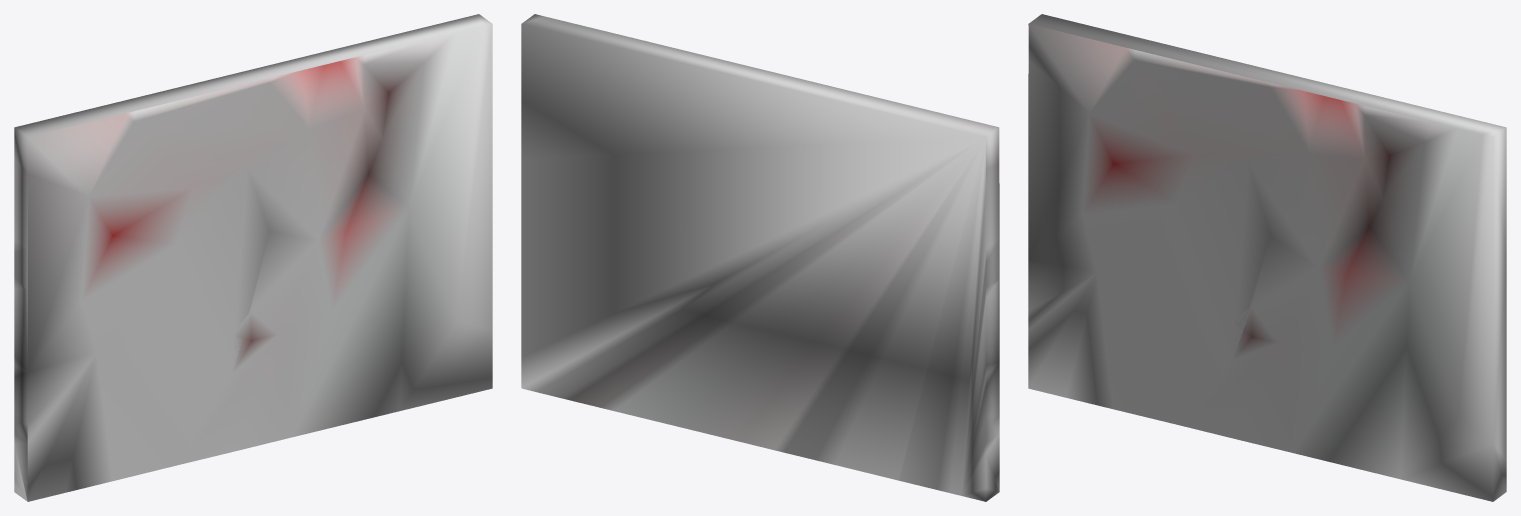
The model's file is SM_FA_Factory_W400_H300.fbx.
3 renders of one model, left to right at view 1: azimuth 30°, elevation 25°; view 2: azimuth 150°, elevation 25°; view 3: azimuth 330°, elevation 25°, orthographic.
Visible parts, largest first — view 1: SM_FA_Factory_W400_H300; view 2: SM_FA_Factory_W400_H300; view 3: SM_FA_Factory_W400_H300.
Part boxes in pixels (x1,y1,x2,y2): SM_FA_Factory_W400_H300: [14, 14, 492, 501]; SM_FA_Factory_W400_H300: [521, 14, 999, 501]; SM_FA_Factory_W400_H300: [1028, 14, 1506, 501].
Bounding box in the file's own units: 400 × 20 × 300.
